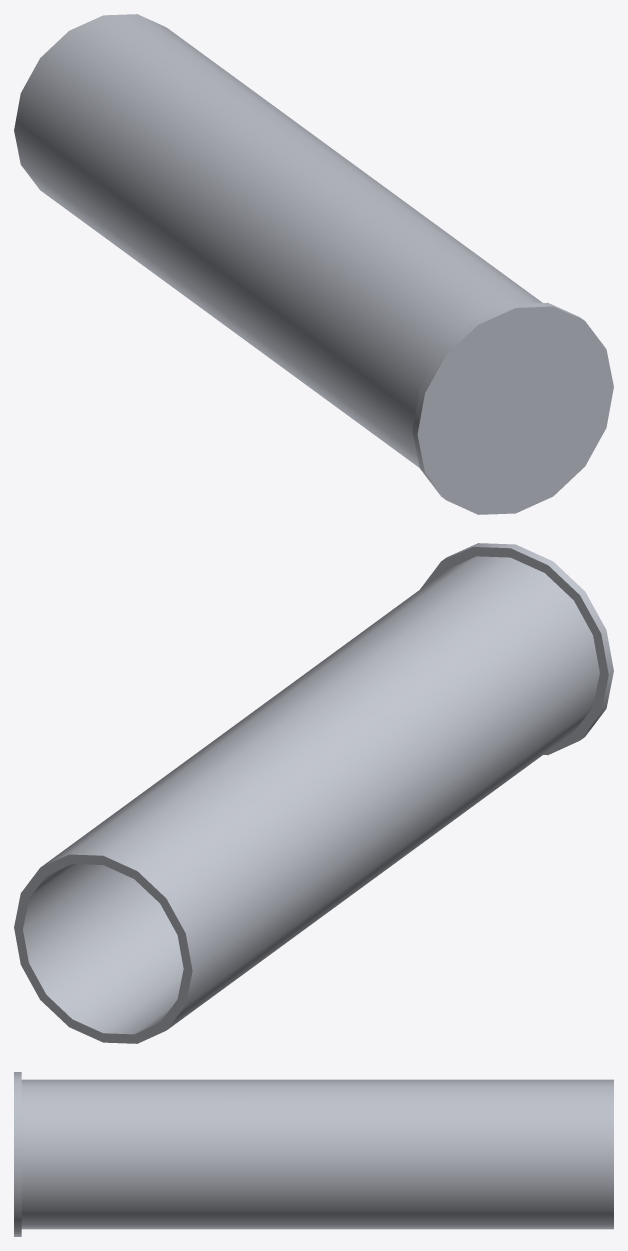
File: kwk44_empty.fbx
3 views of the same model, one above another, from view 1: azimuth 30°, elevation 25°; view 2: azimuth 150°, elevation 25°; view 3: azimuth 270°, elevation 25° (orthographic). The views are drawn at different scales.
Visible parts, largest first — view 1: Cylinder; view 2: Cylinder; view 3: Cylinder.
Part boxes in pixels (x1,y1,x2,y2): Cylinder: (14,14,613,514); Cylinder: (14,543,613,1043); Cylinder: (14,1072,613,1236).
Size of the model in its own units: 110 by 110 by 400.
